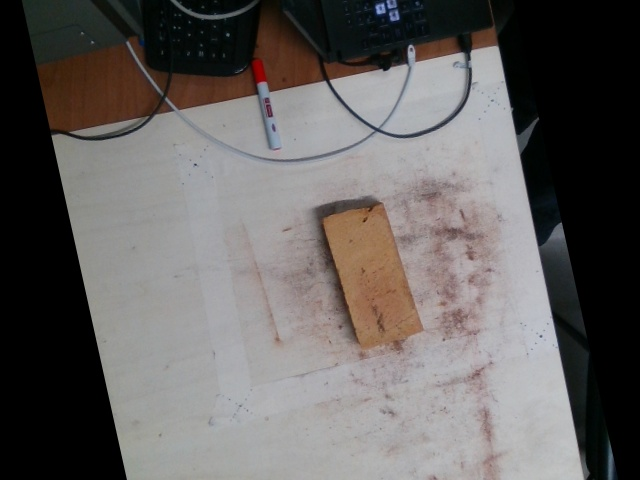brick: (323, 200, 422, 346)
